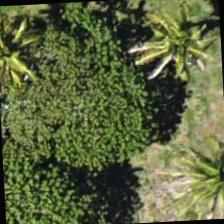Kelapa_Sawit: (128, 0, 222, 88), (173, 129, 223, 221), (0, 3, 48, 95)
